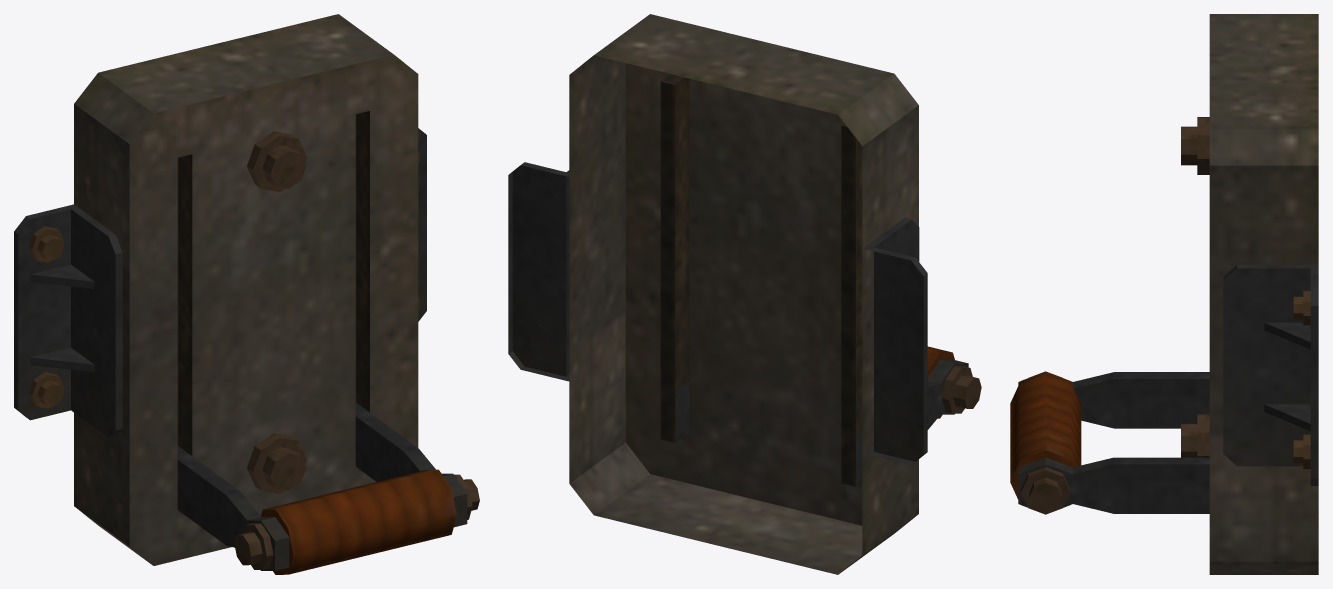
The model's file is lever_etx_1.obj.
3 views of the same model, side by side, from view 1: azimuth 30°, elevation 25°; view 2: azimuth 150°, elevation 25°; view 3: azimuth 270°, elevation 25° (orthographic). The views are drawn at different scales.
Visible parts, largest first — view 1: lever_etx_1, lever_etx_1_child; view 2: lever_etx_1, lever_etx_1_child; view 3: lever_etx_1, lever_etx_1_child.
Part boxes in pixels (x1=…): lever_etx_1: x1=14, y1=14, x2=426, y2=565; lever_etx_1_child: x1=177, y1=402, x2=479, y2=574; lever_etx_1: x1=508, y1=14, x2=927, y2=574; lever_etx_1_child: x1=675, y1=346, x2=981, y2=486; lever_etx_1: x1=1181, y1=14, x2=1318, y2=574; lever_etx_1_child: x1=1010, y1=371, x2=1209, y2=514.
Size of the model in its own units: 0.306 by 0.324 by 0.2034.
